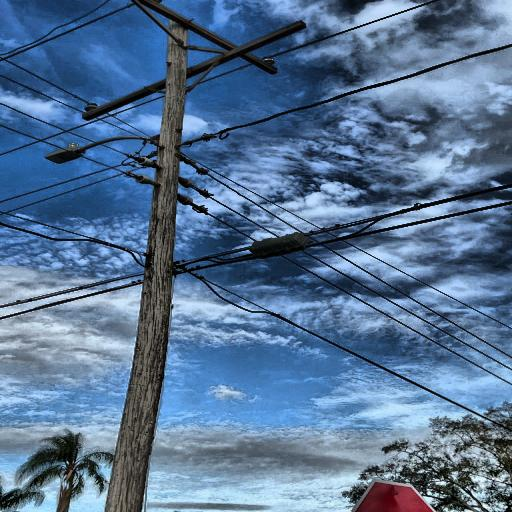pole: (66, 15, 202, 512)
